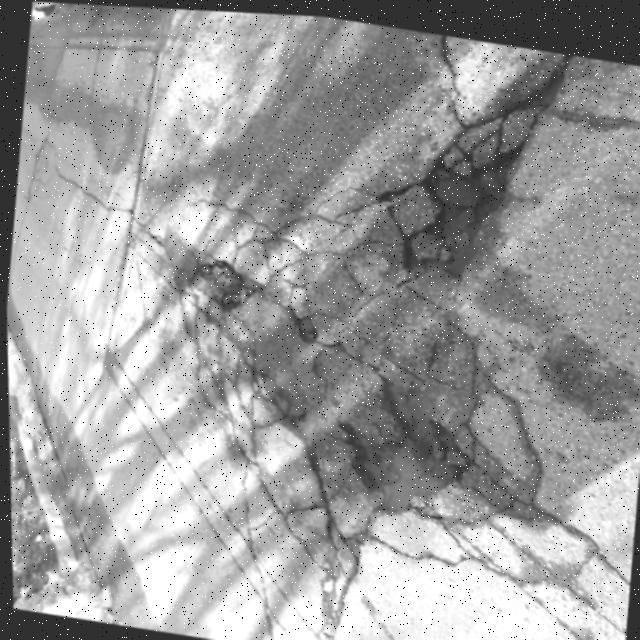pothole: (353, 91, 538, 302), (327, 364, 490, 540)
